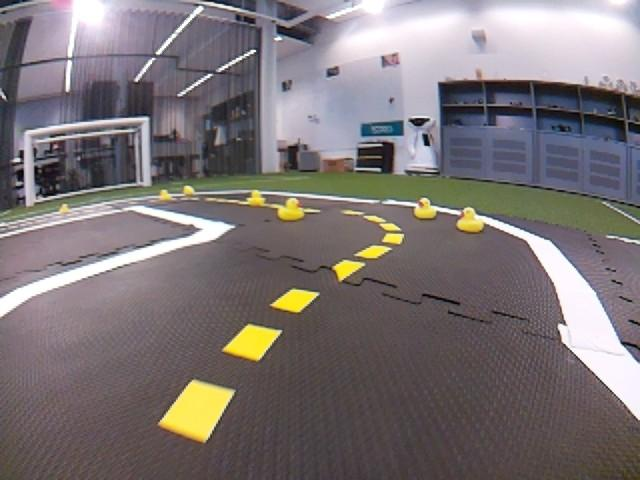Duckies: (456, 207, 484, 233), (277, 197, 306, 220), (413, 197, 437, 219), (247, 191, 265, 207), (160, 190, 172, 200), (59, 204, 70, 213), (183, 186, 194, 194)
